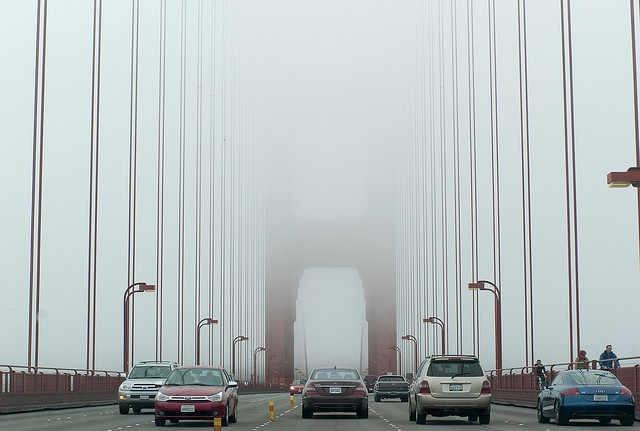bicycle: (534, 371, 550, 398)
car: (407, 353, 494, 426), (535, 369, 637, 427), (154, 366, 241, 427), (300, 365, 370, 420), (118, 360, 184, 416), (373, 374, 409, 403), (362, 374, 380, 394), (289, 379, 310, 396)
person: (598, 344, 622, 388), (533, 359, 548, 391), (574, 350, 590, 377)
